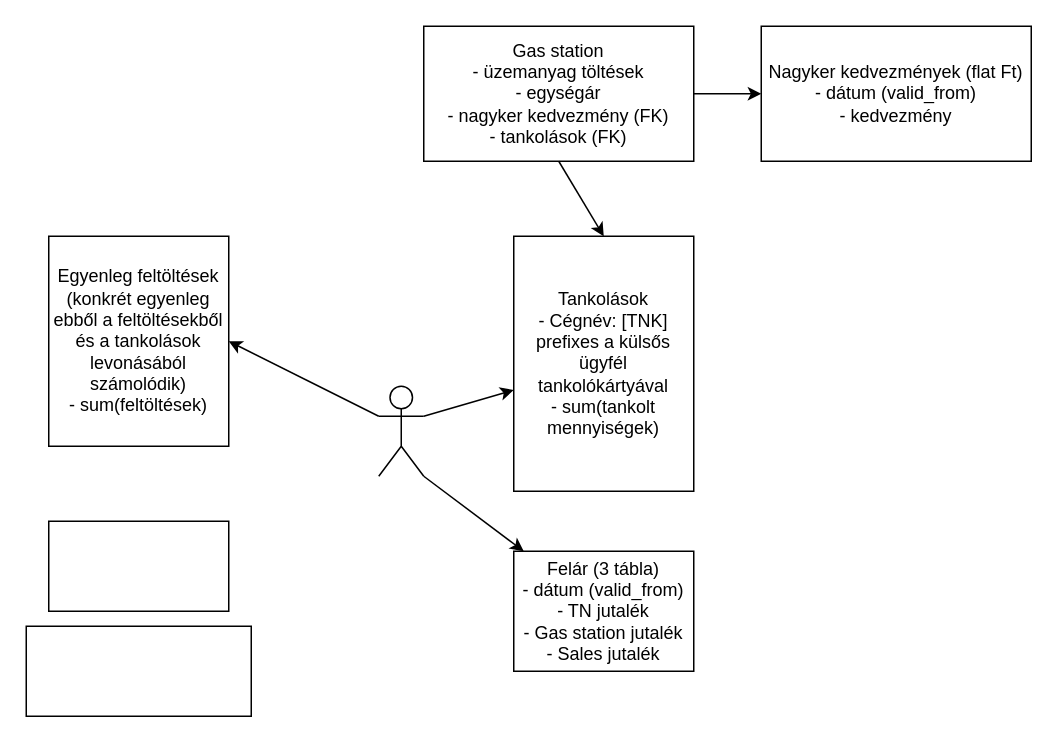
Image size: 1058x743. Some labels were removed from this diagram. The shapes that lost their labels are listed below. From the top down, each one's centre as x and y in pixels, then its label:
pixel 400 430: Cég - tankolókártya - feltöltött összeg
pixel 138 565: Holtankoljak - piaci egységár
pixel 138 670: Nagykerárak - dátum - mol egységár - uih(unipetrol) egységár
